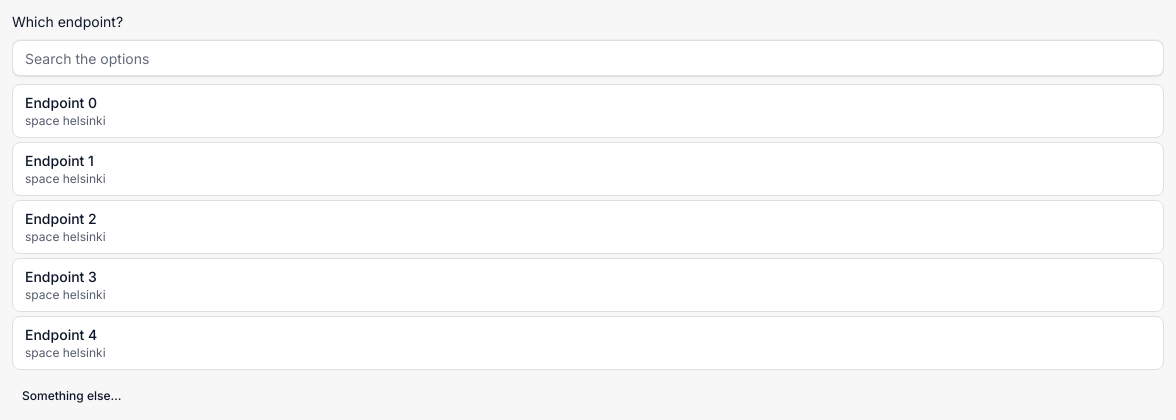
a question of the assistant (UI-57) › draws eight options as a list with a search over title and description
In the search field labelled "Search the options": (588, 58) [12, 40, 1164, 76], type "espoo"
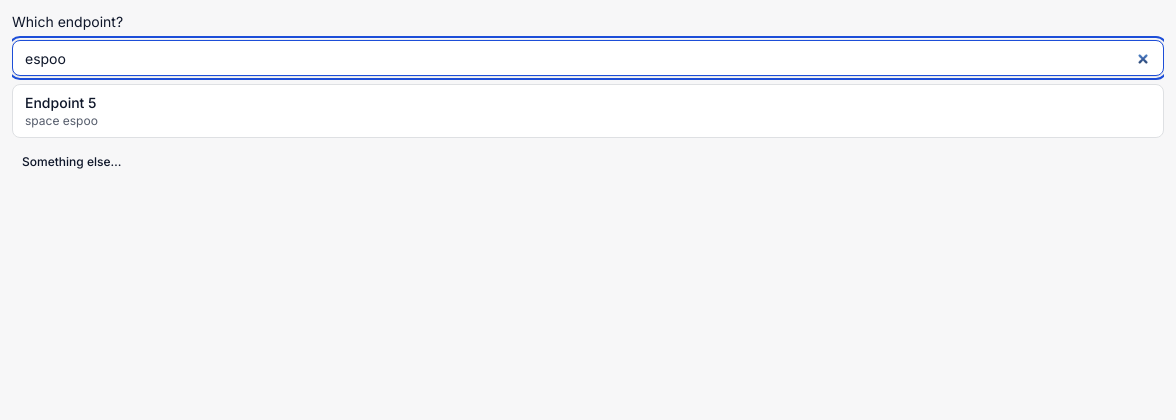
Now the number of radio buttons is 1, box [12, 84, 1164, 138]
